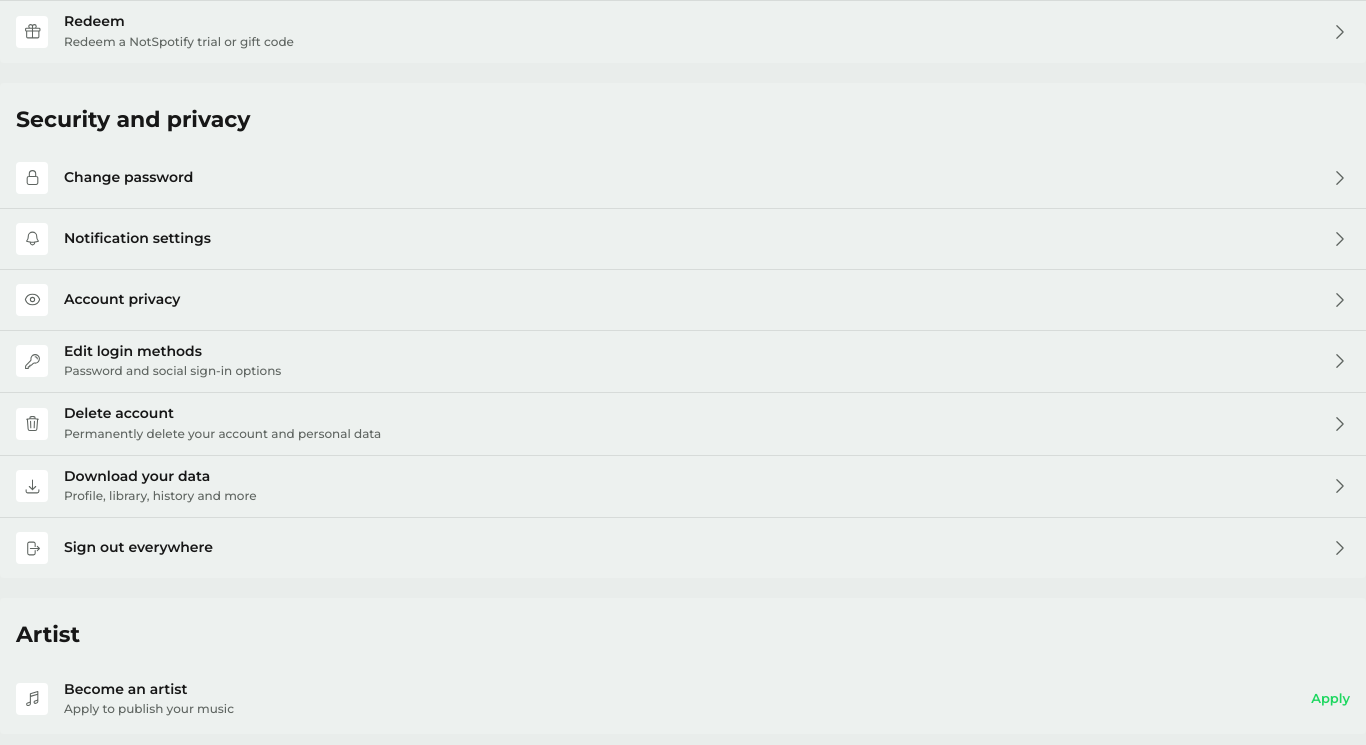
AccountSettingsPage account feature rows › closes the login-methods pop-up when pressing Escape
(page scrolled)
Expected: the text "Become an artist" is shown, left=64, top=680, right=187, bottom=698
Click the button "Edit login methods Password and social sign-in options" at coordinates (32, 361), box left=0, top=330, right=1365, bottom=393
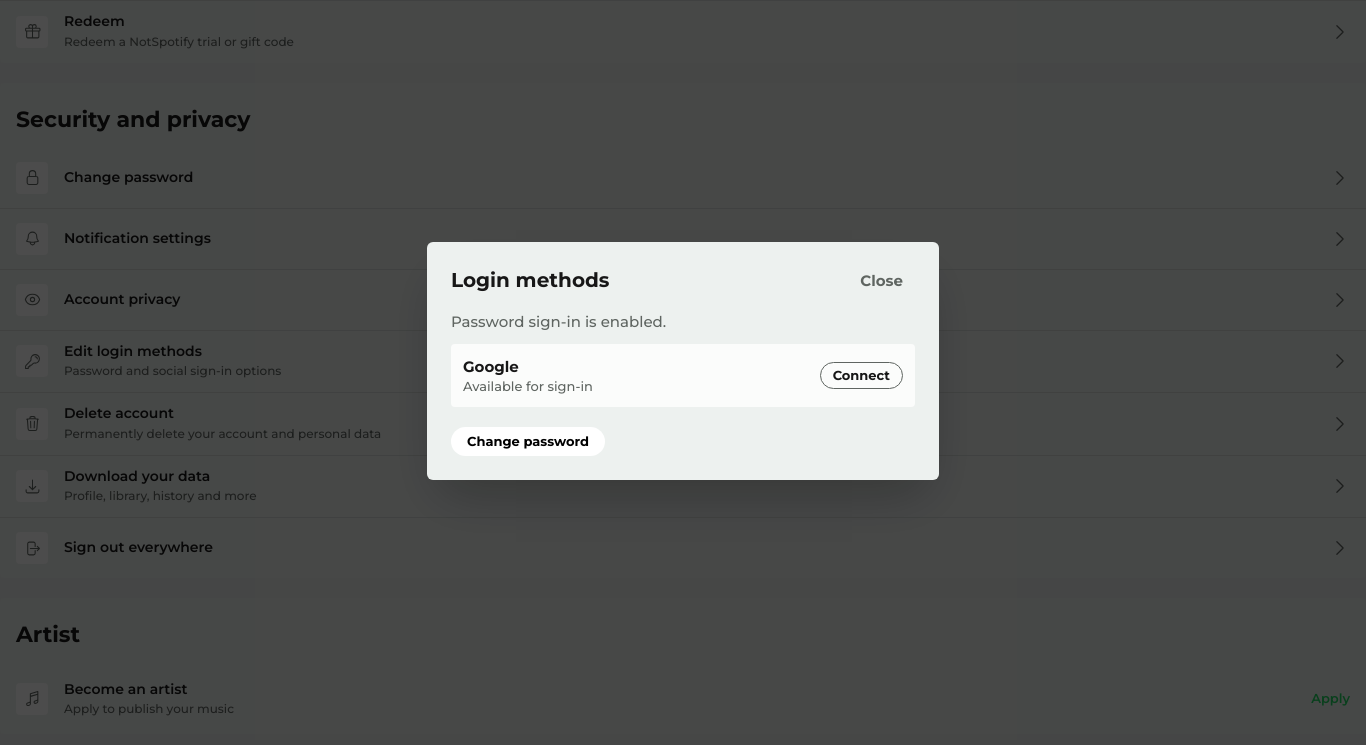
Expected: the text "Password sign-in is enabled." is shown, left=451, top=312, right=666, bottom=331
Press Escape
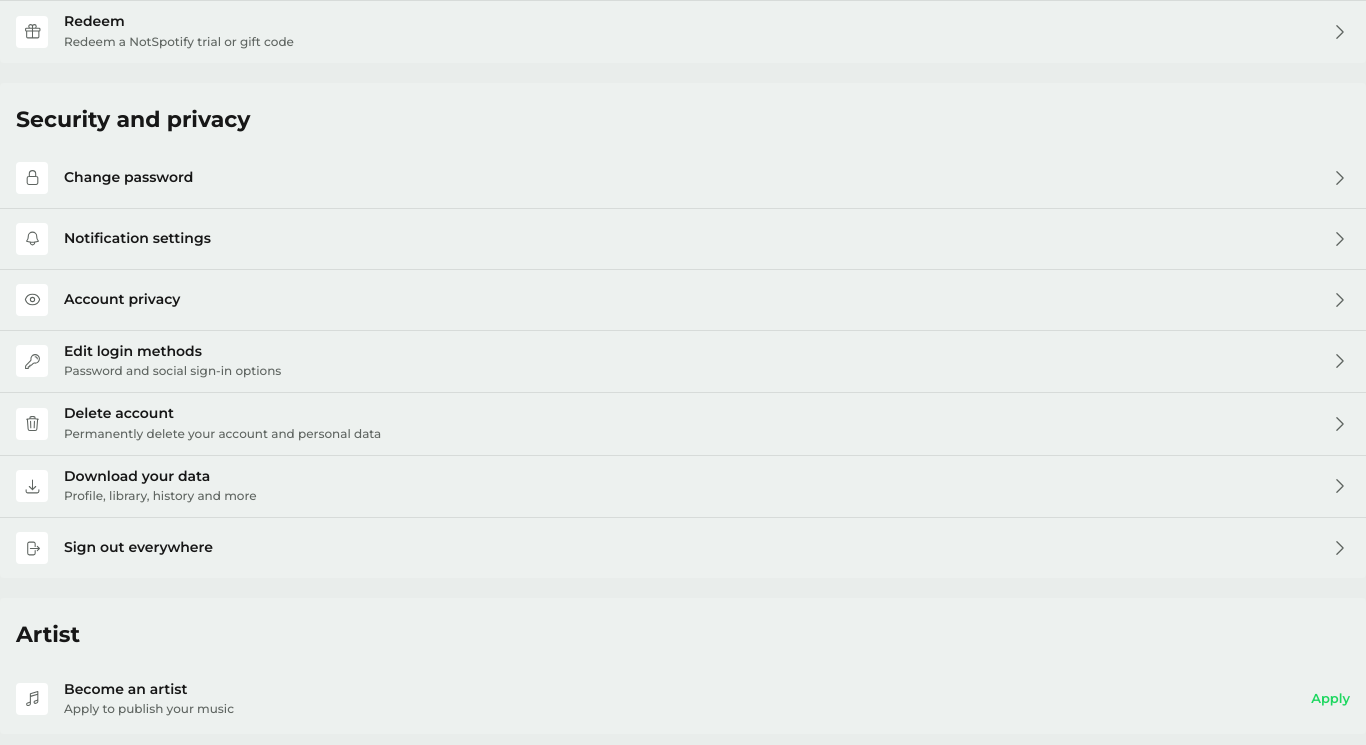
Expected: the text "Password sign-in is enabled." is gone
